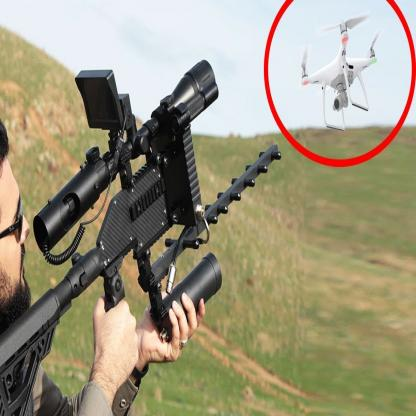drone: (287, 13, 384, 130)
